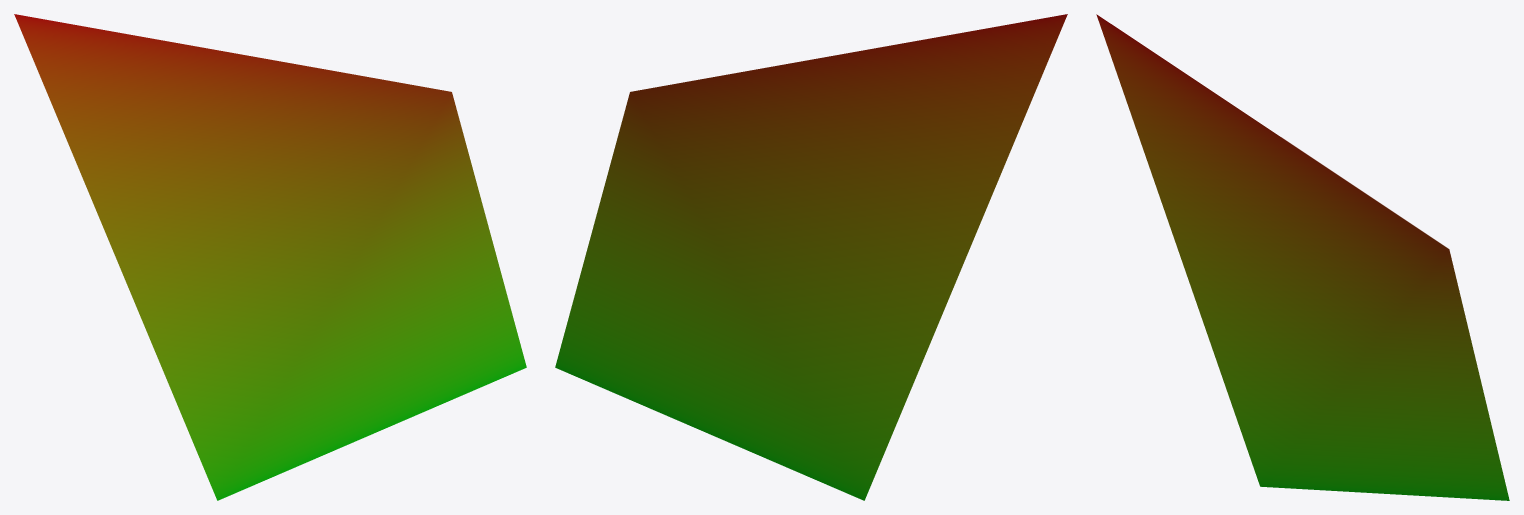
Rendered from Great Brome_LOD5_Var4_tjugaikia.fbx.
3 renders of one model, left to right at view 1: azimuth 30°, elevation 25°; view 2: azimuth 150°, elevation 25°; view 3: azimuth 330°, elevation 25°, orthographic. The views are drawn at different scales.
Parts seen in each view (by area): view 1: _317d_Var4_LOD5; view 2: _317d_Var4_LOD5; view 3: _317d_Var4_LOD5.
Boxes of the visible parts, x1,y1,x2,y2 form: _317d_Var4_LOD5: [14, 14, 526, 500]; _317d_Var4_LOD5: [555, 14, 1067, 500]; _317d_Var4_LOD5: [1096, 14, 1509, 500].
Bounding box in the file's own units: 29.87 × 29.87 × 7.15e-07.
